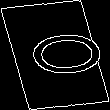O_E: (7, 29, 103, 81)
